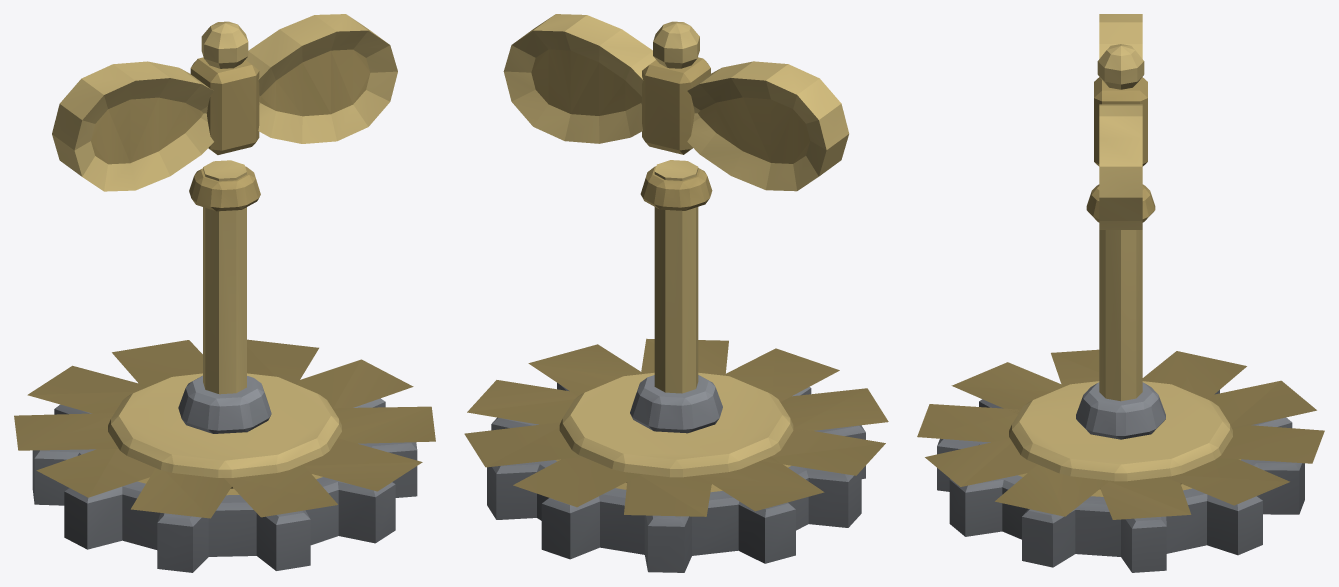
The model's file is wind-up-key.glb.
3 renders of one model, left to right at view 1: azimuth 30°, elevation 25°; view 2: azimuth 150°, elevation 25°; view 3: azimuth 270°, elevation 25°, orthographic. The views are drawn at different scales.
Parts seen in each view (by area): view 1: wind-up-key; view 2: wind-up-key; view 3: wind-up-key.
Boxes of the visible parts, x1,y1,x2,y2 form: wind-up-key: (14, 14, 435, 572); wind-up-key: (464, 14, 888, 572); wind-up-key: (917, 14, 1324, 572).
Size of the model in its own units: 0.7526 by 0.915 by 0.7527.
